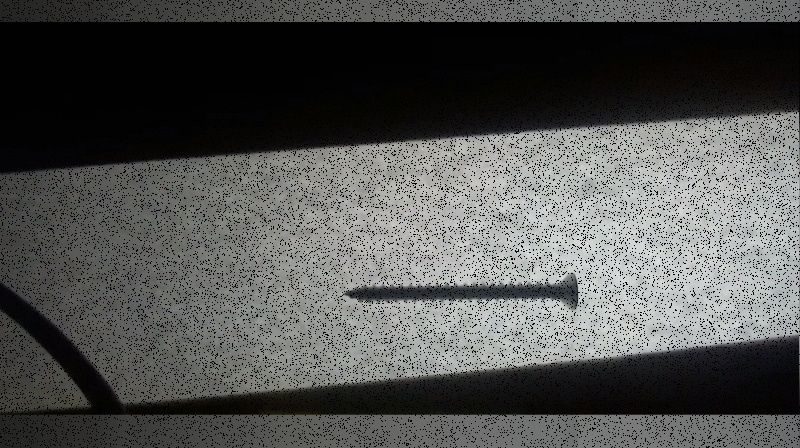S002: (340, 269, 582, 314)
